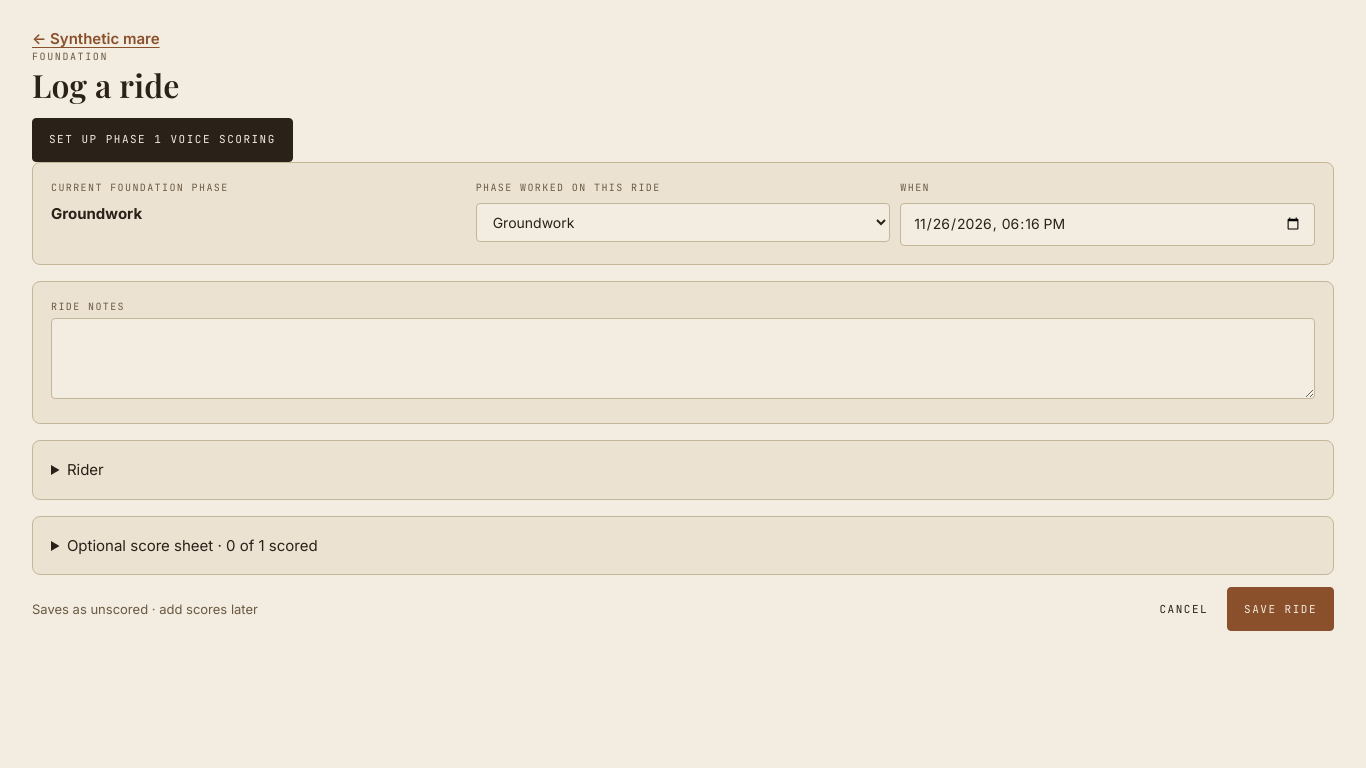
Test case: keeps unsaved notes intact and explains why a saved voice draft cannot be opened over them
Type "Keep these notes" into the text box labelled "Ride notes". click: (683, 359)
box: [51,318,1315,399]
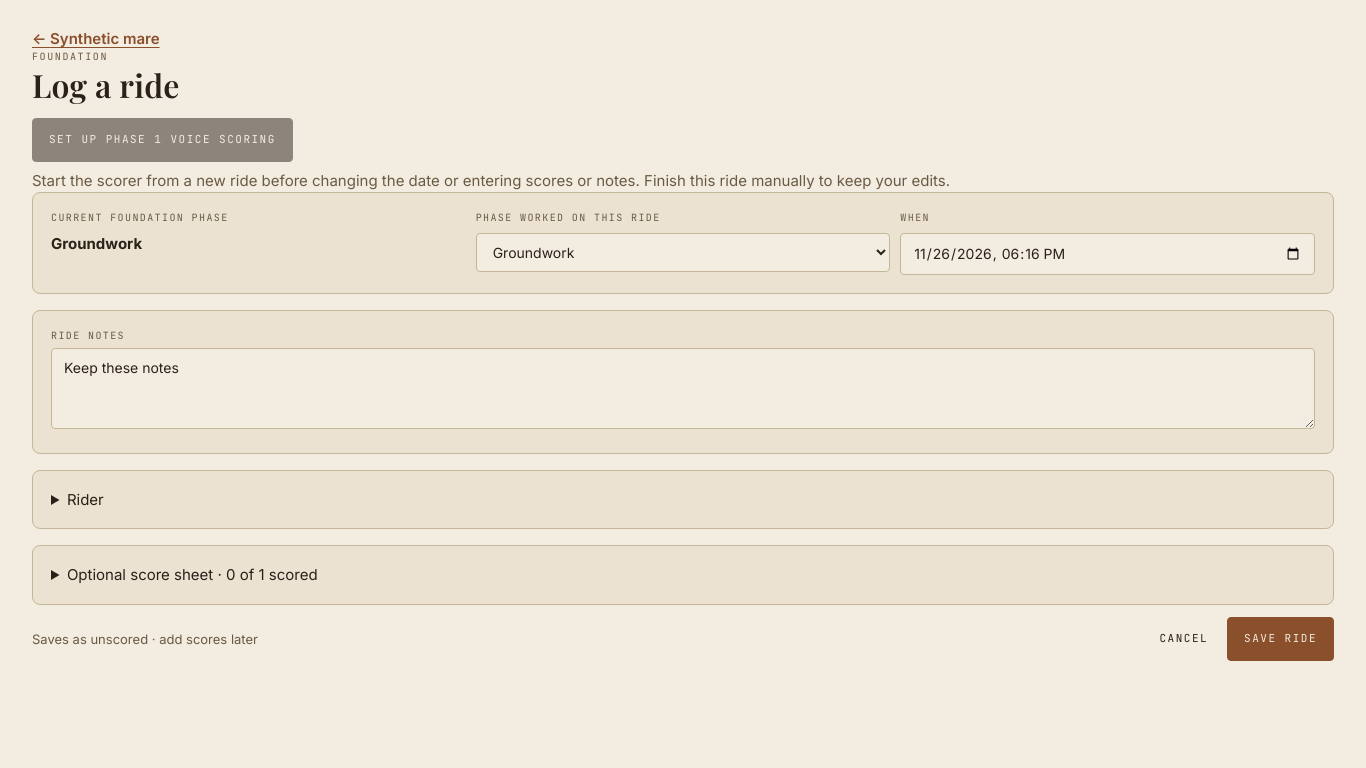
Now the button "Set up Phase 1 voice scoring" is disabled, box [32,118,293,162]
Now the text "Finish this ride manually to keep your edits" is shown, box [32,171,950,190]
